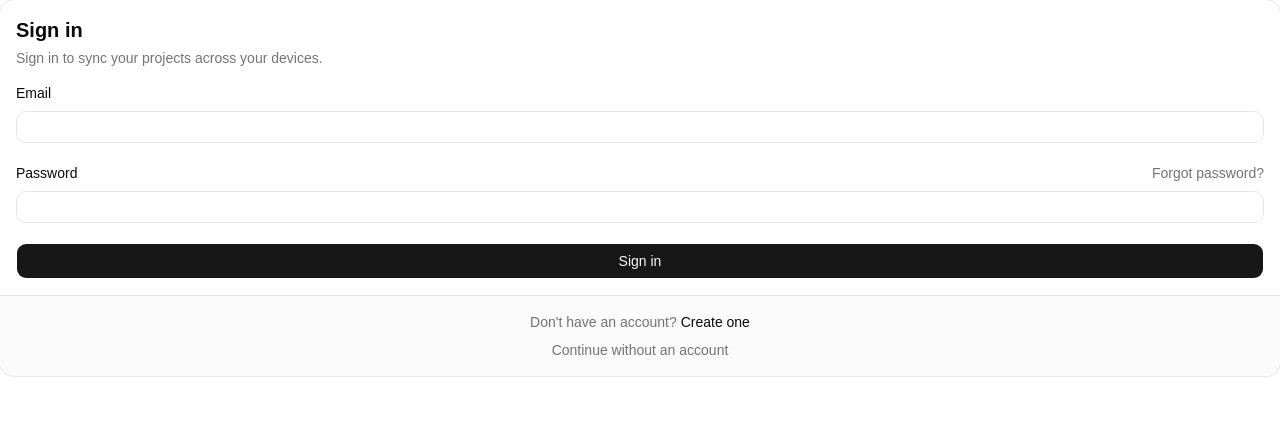
Test: LoginPage › signs in and shows translated errors
Type " me@example.com " into the field labelled "Email" at (640, 127), box left=16, top=111, right=1264, bottom=143
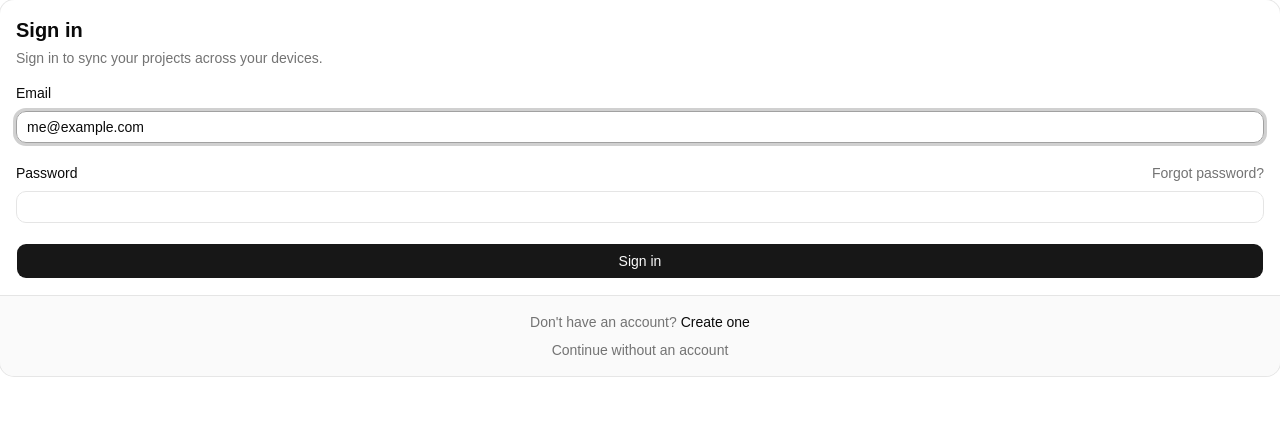
Type "secret" into the password field labelled "Password" at (640, 207), box left=16, top=191, right=1264, bottom=223
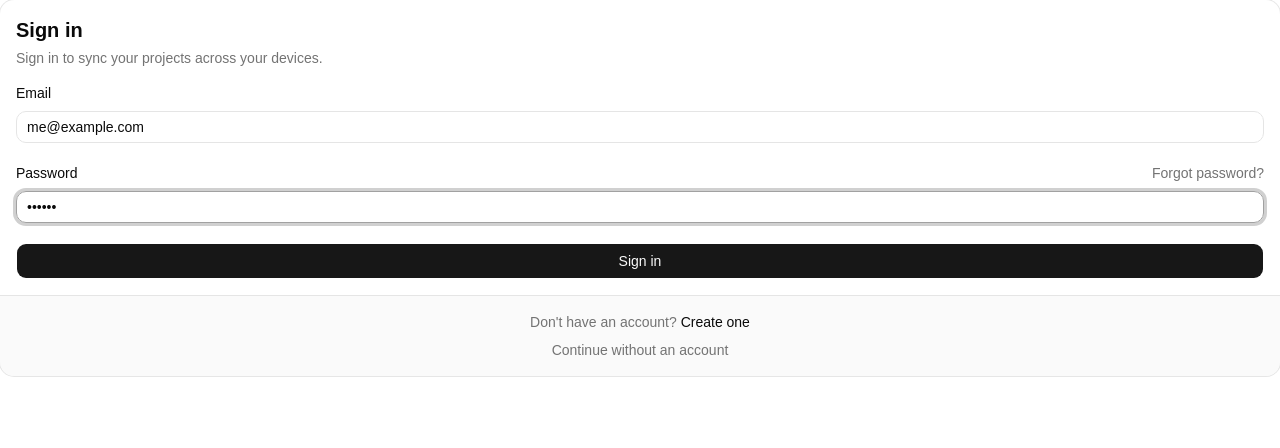
Click the button "Sign in" at (640, 261), box left=16, top=243, right=1264, bottom=279
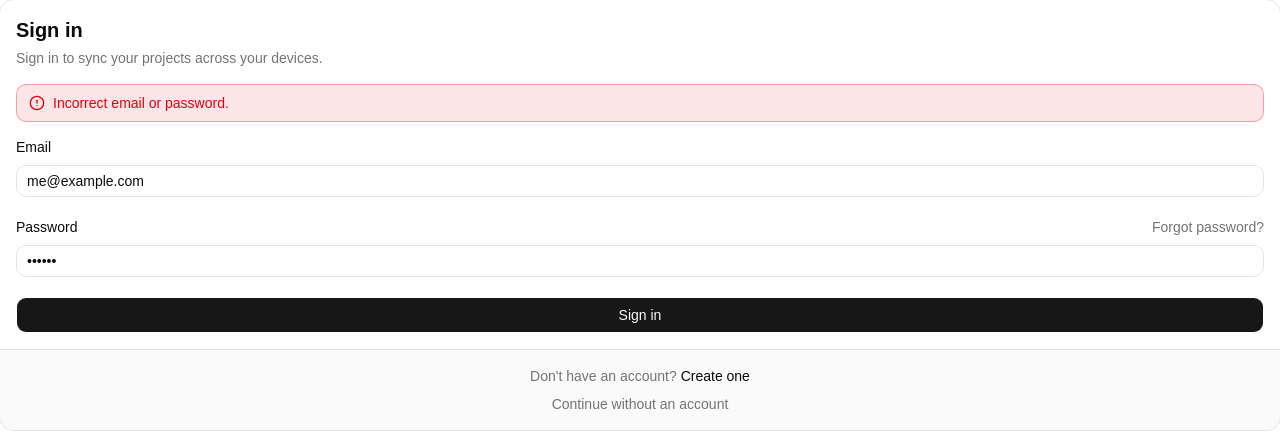
Expected: the text "Incorrect email or password." is shown, left=53, top=93, right=229, bottom=113
